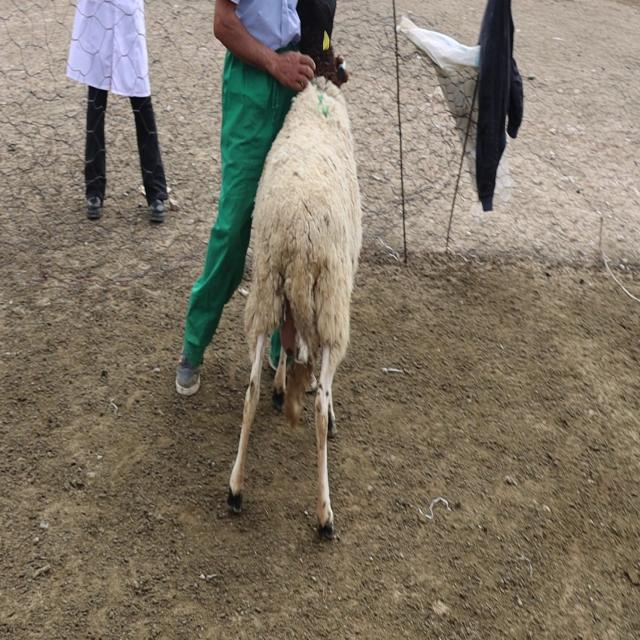Score_5: (227, 0, 362, 537)
